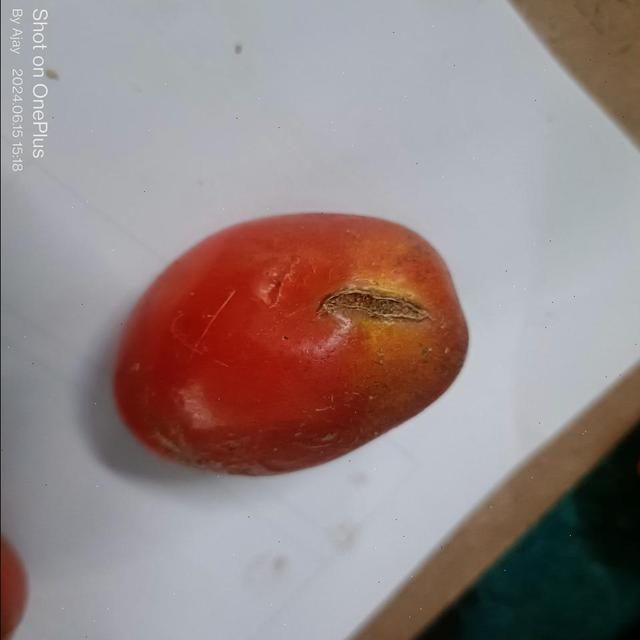Cracking Fruit: (164, 113, 413, 302)
